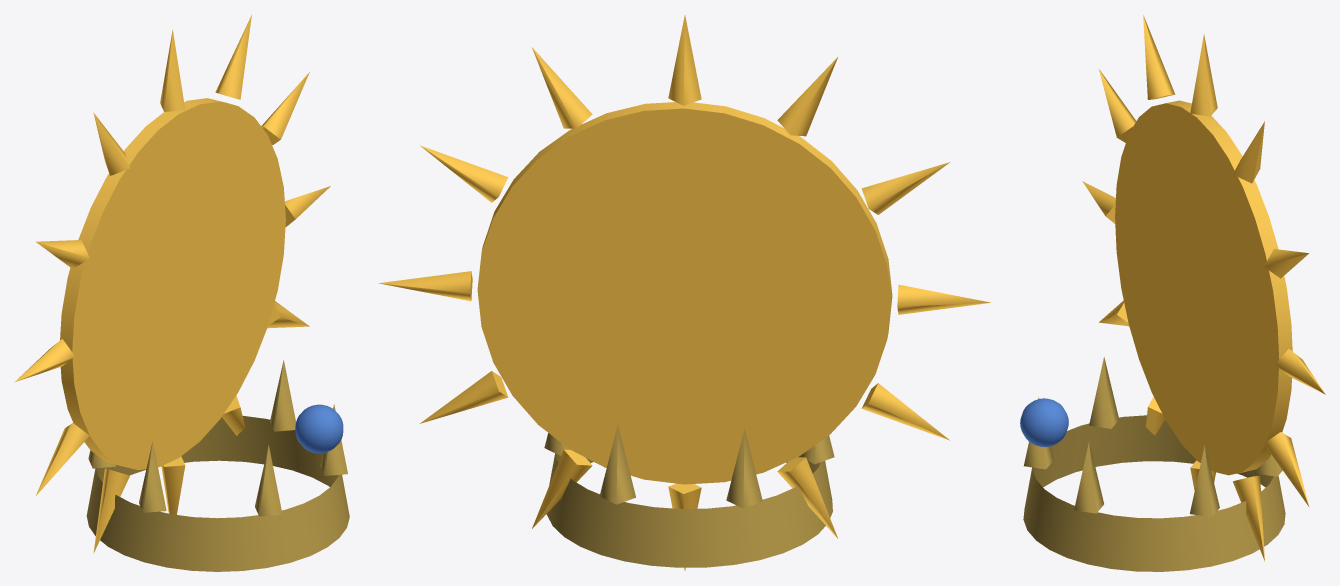
Rendered from sun_crown.glb.
3 views of the same model, side by side, from view 1: azimuth 30°, elevation 25°; view 2: azimuth 150°, elevation 25°; view 3: azimuth 270°, elevation 25° (orthographic). The views are drawn at different scales.
Size of the model in its own units: 1.66 by 1.84 by 1.
